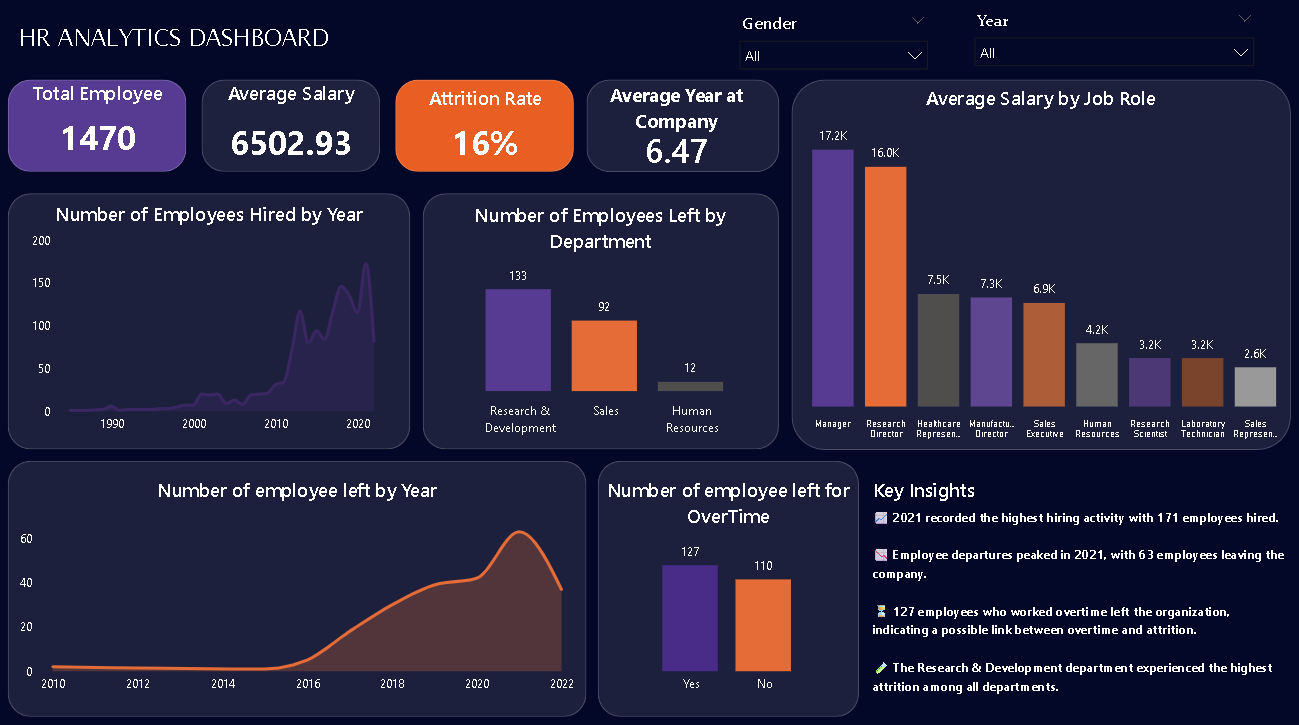

This screenshot's page, from the dashboard's own definition file:
{"tool":"powerbi","page":{"name":"Page 2","canvas":[1280,720],"ordinal":1},"visuals":[{"type":"shape","box":[416,192.6,349.7,251.5],"z":0},{"type":"textbox","title":"HR ANALYTICS DASHBOARD","box":[14.7,25.8,337.4,33.1],"z":1000},{"type":"shape","box":[8.6,81,175.5,90.8],"z":2000},{"type":"shape","box":[777.7,81.1,490.2,363.7],"z":3000},{"type":"shape","box":[198.8,81,175.5,90.8],"z":4000},{"type":"shape","box":[389,81,175.5,90.8],"z":5000},{"type":"shape","box":[576.2,81.1,189.2,90.9],"z":6000},{"type":"card","title":"Total Employee","fields":{"Values":["Dataset.Total Employee"]},"box":[16,81,162,90.8],"z":7000},{"type":"card","title":"Attrition Rate","fields":{"Values":["Dataset.Attrition Rate"]},"box":[396.3,85.9,162,90.8],"z":8000},{"type":"card","title":"Average Salary","fields":{"Values":["Avg(Dataset.Salary)"]},"box":[206.1,81,162,100.6],"z":9000},{"type":"card","title":"Average Year at Company","fields":{"Values":["Avg(Dataset.YearsAtCompany)"]},"box":[576.2,83.5,176.9,86],"z":10000},{"type":"clusteredColumnChart","title":"Number of Employees Left by Department","fields":{"Category":["Dataset.Department"],"Y":["Dataset.num of employee left"]},"box":[427,201.2,326.4,236.8],"z":11000},{"type":"slicer","fields":{"Values":["Dataset.Year"]},"box":[947.2,8.6,294.5,65],"z":12000},{"type":"clusteredColumnChart","title":"Average Salary by Job Role","fields":{"Category":["Dataset.Job Role"],"Y":["Avg(Dataset.Salary)"]},"box":[765.4,86,514.8,356.3],"z":13000},{"type":"shape","box":[8.6,192.6,395.1,251.5],"z":14000},{"type":"lineChart","title":"Number of Employees Hired by Year","fields":{"Category":["Dataset.DateStart.Variation.Date Hierarchy.Year"],"Y":["CountNonNull(Dataset.HireType)"]},"box":[27,200,358.3,236.8],"z":15000},{"type":"shape","box":[8.6,455.2,568.1,251.5],"z":16000},{"type":"lineChart","title":"Number of employee left by Year","fields":{"Category":["Dataset.DateDeparture.Variation.Date Hierarchy.Year"],"Y":["Dataset.num of employee left"]},"box":[16,471.2,553.4,220.9],"z":17000},{"type":"shape","box":[587.7,455.2,256.4,251.5],"z":18000},{"type":"clusteredColumnChart","title":"Number of employee left for OverTime","fields":{"Category":["Dataset.OverTime"],"Y":["Dataset.num of employee left"]},"box":[581.6,471.2,268.7,220.9],"z":19000},{"type":"slicer","fields":{"Values":["Dataset.Gender"]},"box":[716.6,8.6,204.9,63.8],"z":20000},{"type":"textbox","title":"Key Insights","box":[852.8,471.2,416,220.9],"z":21000}]}

Visuals, with their boxes in screenshot pixels (x1, y1, x2, y2), scaled from the page's 1280x720 canvas onto the 1299x725 screenshot:
shape: rect(422, 194, 777, 447)
"HR ANALYTICS DASHBOARD" textbox: rect(15, 26, 357, 59)
shape: rect(9, 82, 187, 173)
shape: rect(789, 82, 1287, 448)
shape: rect(202, 82, 380, 173)
shape: rect(395, 82, 573, 173)
shape: rect(585, 82, 777, 173)
"Total Employee" card: rect(16, 82, 181, 173)
"Attrition Rate" card: rect(402, 86, 567, 178)
"Average Salary" card: rect(209, 82, 374, 183)
"Average Year at Company" card: rect(585, 84, 764, 171)
"Number of Employees Left by Department" clusteredColumnChart: rect(433, 203, 765, 441)
slicer - Dataset.Year: rect(961, 9, 1260, 74)
"Average Salary by Job Role" clusteredColumnChart: rect(777, 87, 1298, 445)
shape: rect(9, 194, 410, 447)
"Number of Employees Hired by Year" lineChart: rect(27, 201, 391, 440)
shape: rect(9, 458, 585, 712)
"Number of employee left by Year" lineChart: rect(16, 474, 578, 697)
shape: rect(596, 458, 857, 712)
"Number of employee left for OverTime" clusteredColumnChart: rect(590, 474, 863, 697)
slicer - Dataset.Gender: rect(727, 9, 935, 73)
"Key Insights" textbox: rect(865, 474, 1288, 697)
